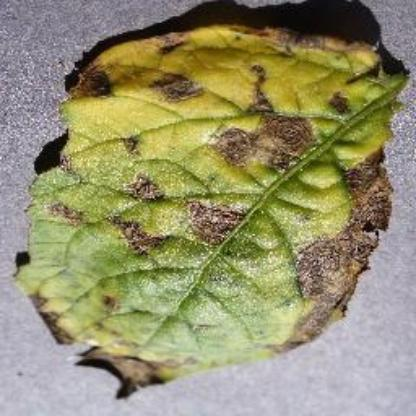Early-Blight: (15, 20, 404, 394)
